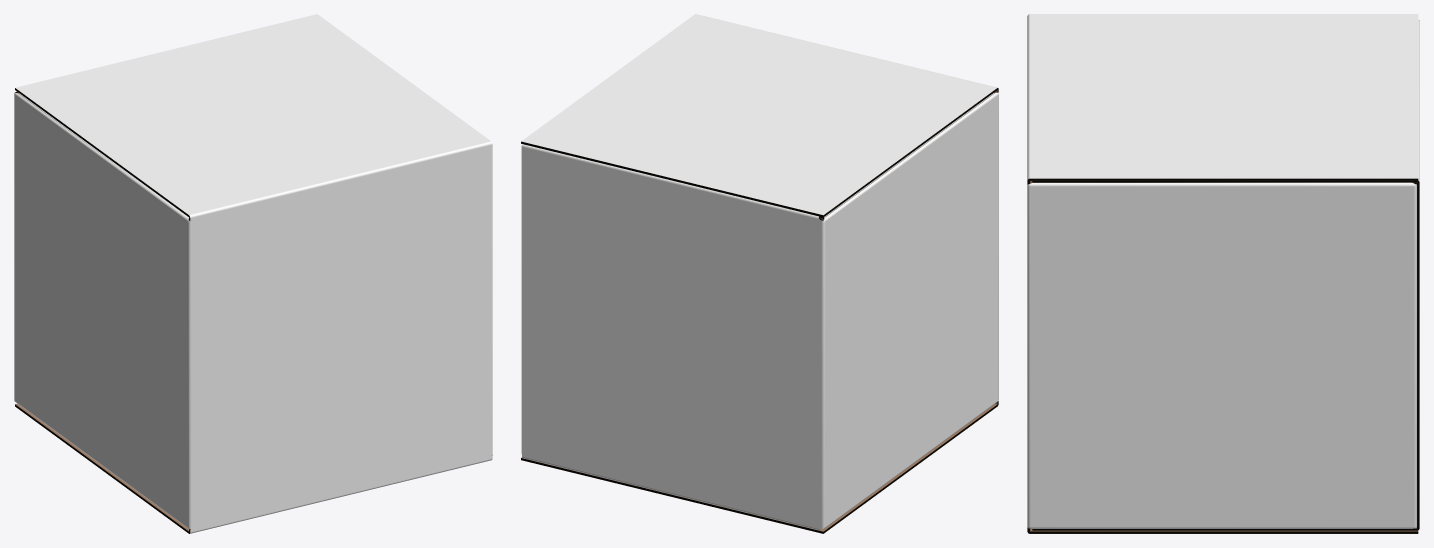
File: 4DROTULO.gltf
3 views of the same model, side by side, from view 1: azimuth 30°, elevation 25°; view 2: azimuth 150°, elevation 25°; view 3: azimuth 270°, elevation 25° (orthographic). The views are drawn at different scales.
Visible parts, largest first — view 1: TQ_ARD-node; view 2: TQ_ARD-node; view 3: TQ_ARD-node.
Boxes of the visible parts, x1,y1,x2,y2 form: TQ_ARD-node: (14, 14, 492, 533); TQ_ARD-node: (521, 14, 998, 533); TQ_ARD-node: (1027, 14, 1419, 533).
Bounding box in the file's own units: 0.2216 × 0.2216 × 0.2216.
3 materials, 1 textured.
